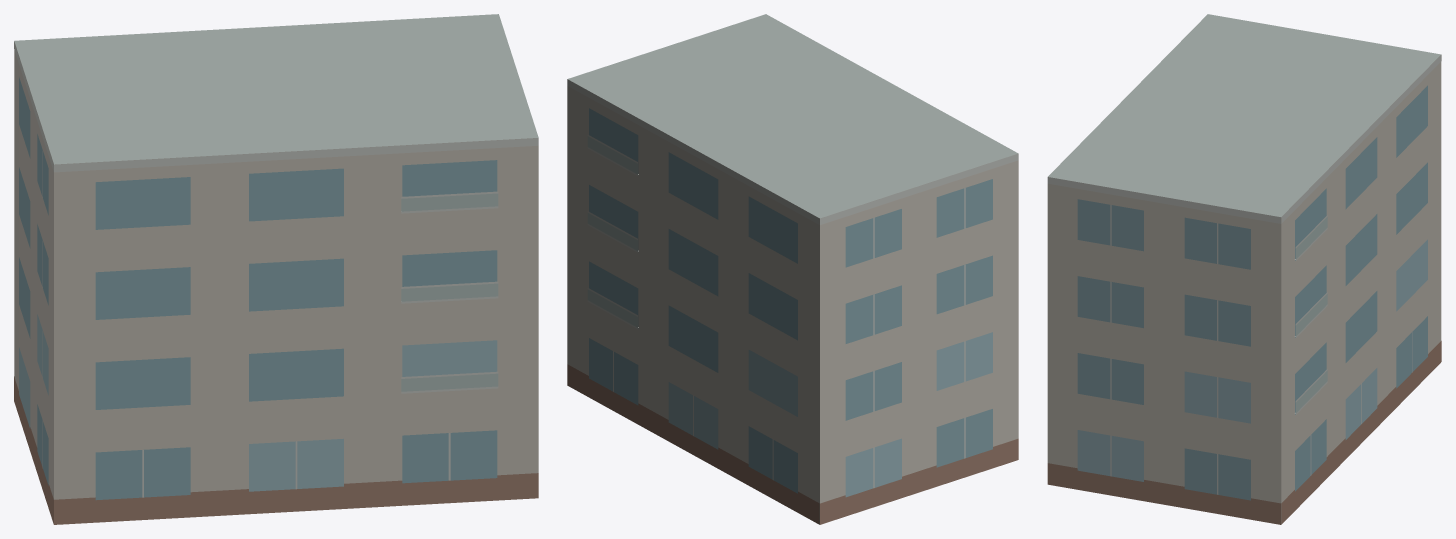
Rendered from survey-upis-32591117.glb.
3 renders of one model, left to right at view 1: azimuth 30°, elevation 25°; view 2: azimuth 150°, elevation 25°; view 3: azimuth 270°, elevation 25°, orthographic. The views are drawn at different scales.
Visible parts, largest first — view 1: survey-upis-32591117.tmp; view 2: survey-upis-32591117.tmp; view 3: survey-upis-32591117.tmp.
Part boxes in pixels (box(x1,y1,x2,y2)): survey-upis-32591117.tmp: box(14, 14, 538, 524); survey-upis-32591117.tmp: box(567, 14, 1018, 524); survey-upis-32591117.tmp: box(1047, 14, 1441, 524).
Bounding box in the file's own units: 15.66 × 11.05 × 12.83.
